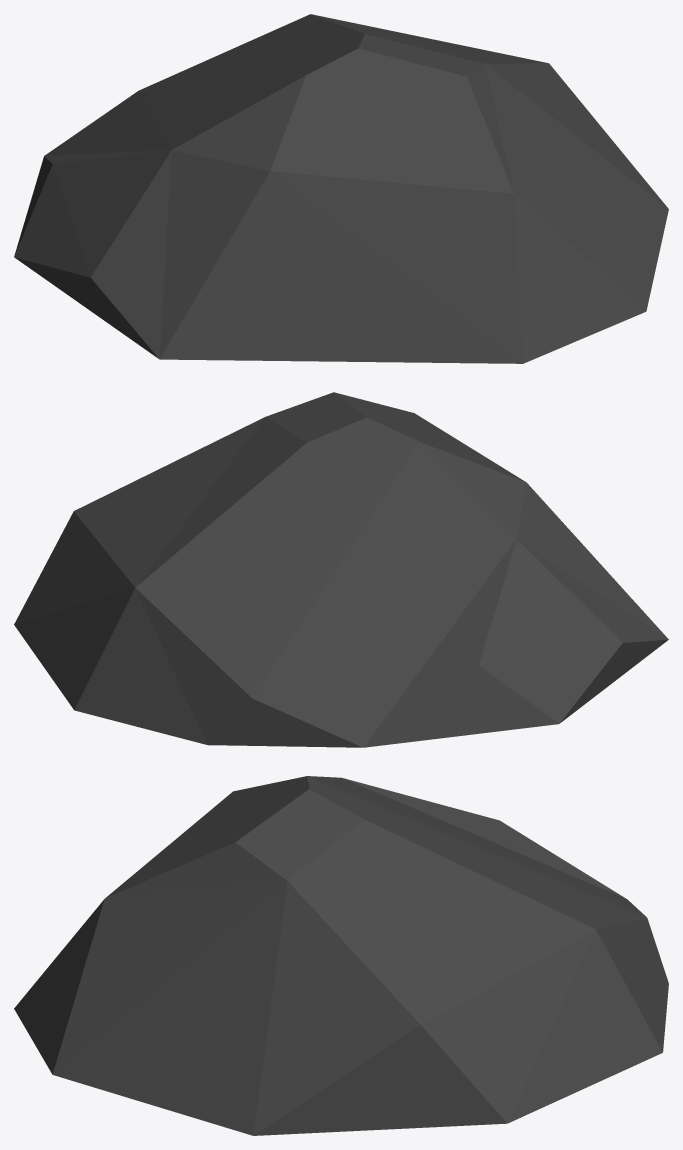
The model's file is rock_6.FBX.
3 renders of one model, top to bottom at view 1: azimuth 30°, elevation 25°; view 2: azimuth 150°, elevation 25°; view 3: azimuth 270°, elevation 25°, orthographic. The views are drawn at different scales.
Parts seen in each view (by area): view 1: rock_6; view 2: rock_6; view 3: rock_6.
Boxes of the visible parts, <box> form: rock_6: <box>14,14,668,363</box>; rock_6: <box>14,392,668,747</box>; rock_6: <box>14,776,668,1135</box>.
Bounding box in the file's own units: 1.21 × 0.4434 × 1.24.
Materials: 1 (1 with a texture image).
